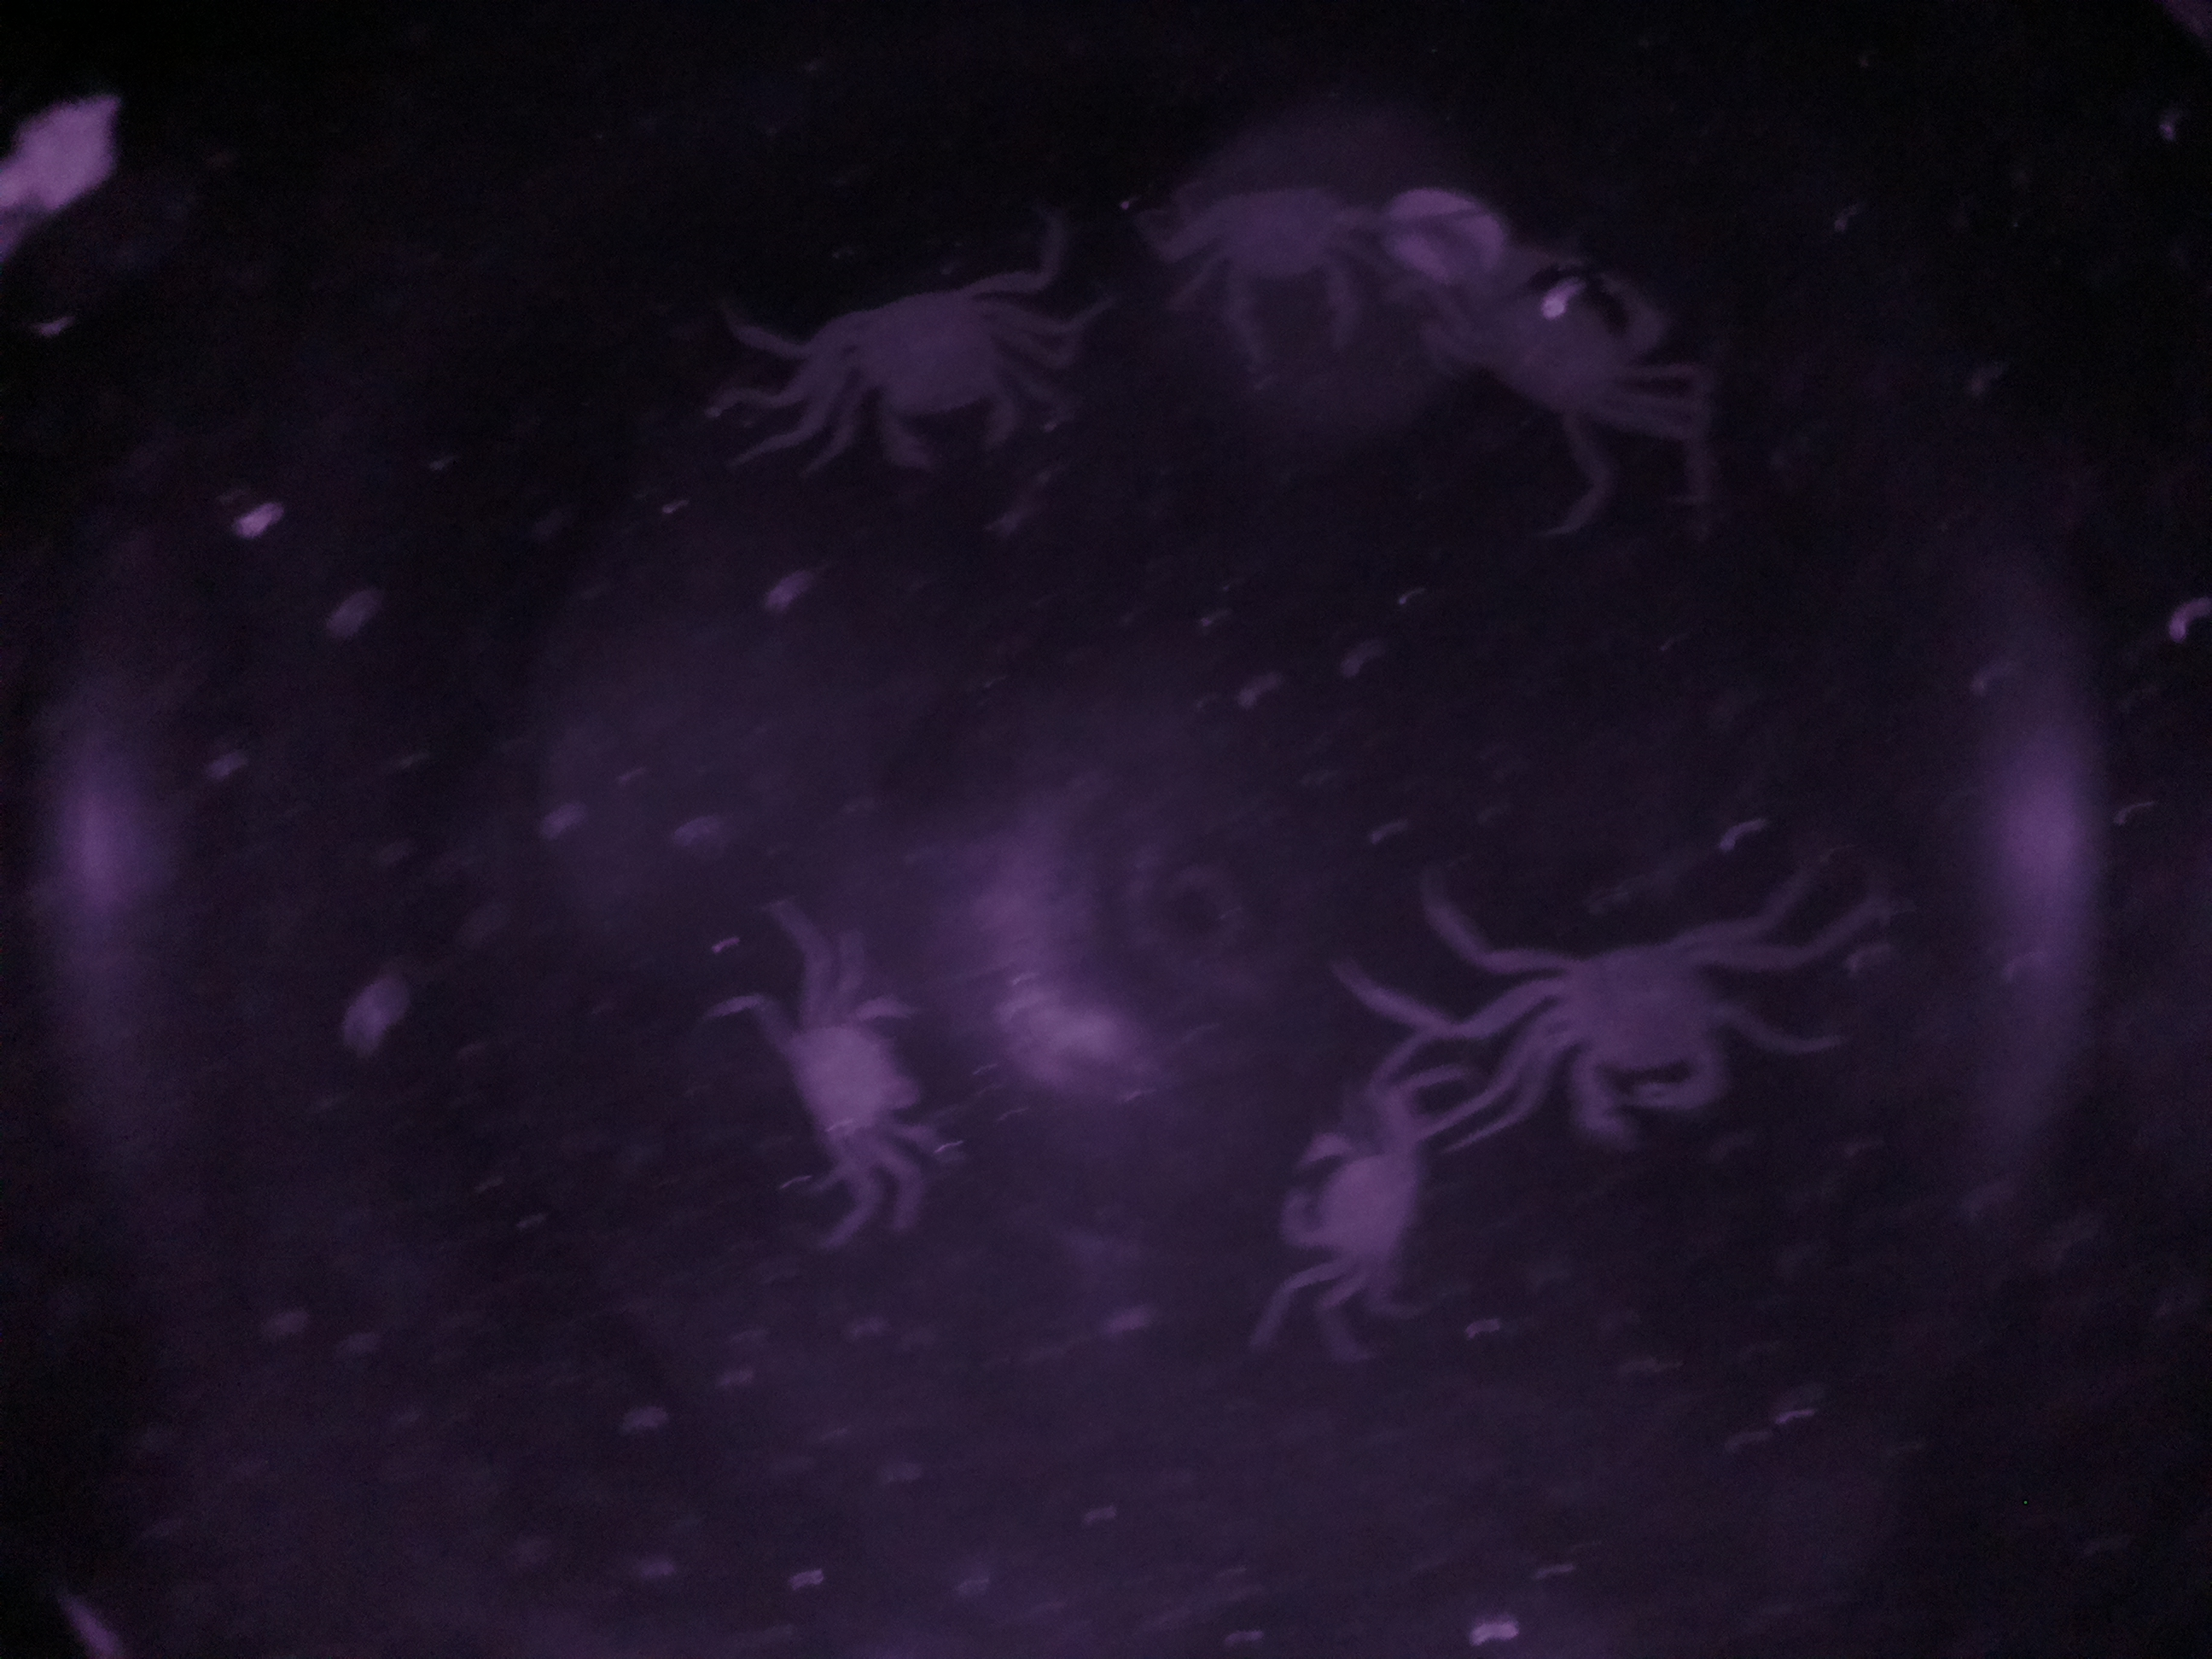Crab: (1491, 911, 1796, 1164)
